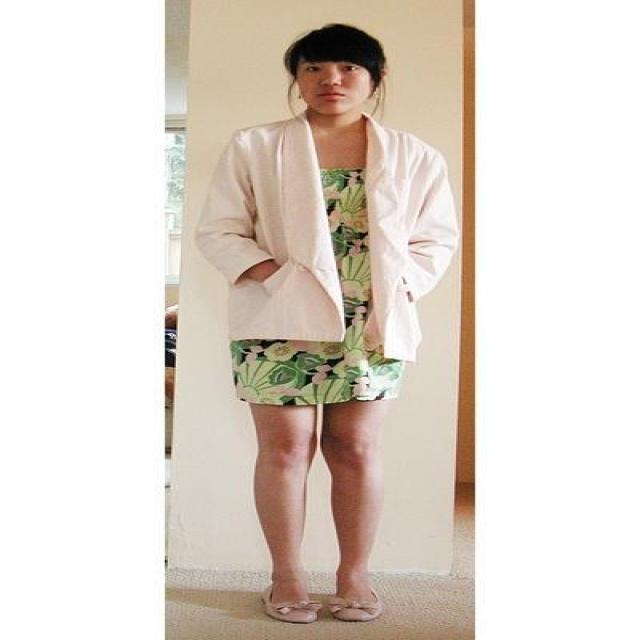dress: (230, 167, 402, 406)
jacket: (194, 122, 461, 360)
shoe: (275, 593, 325, 623)
